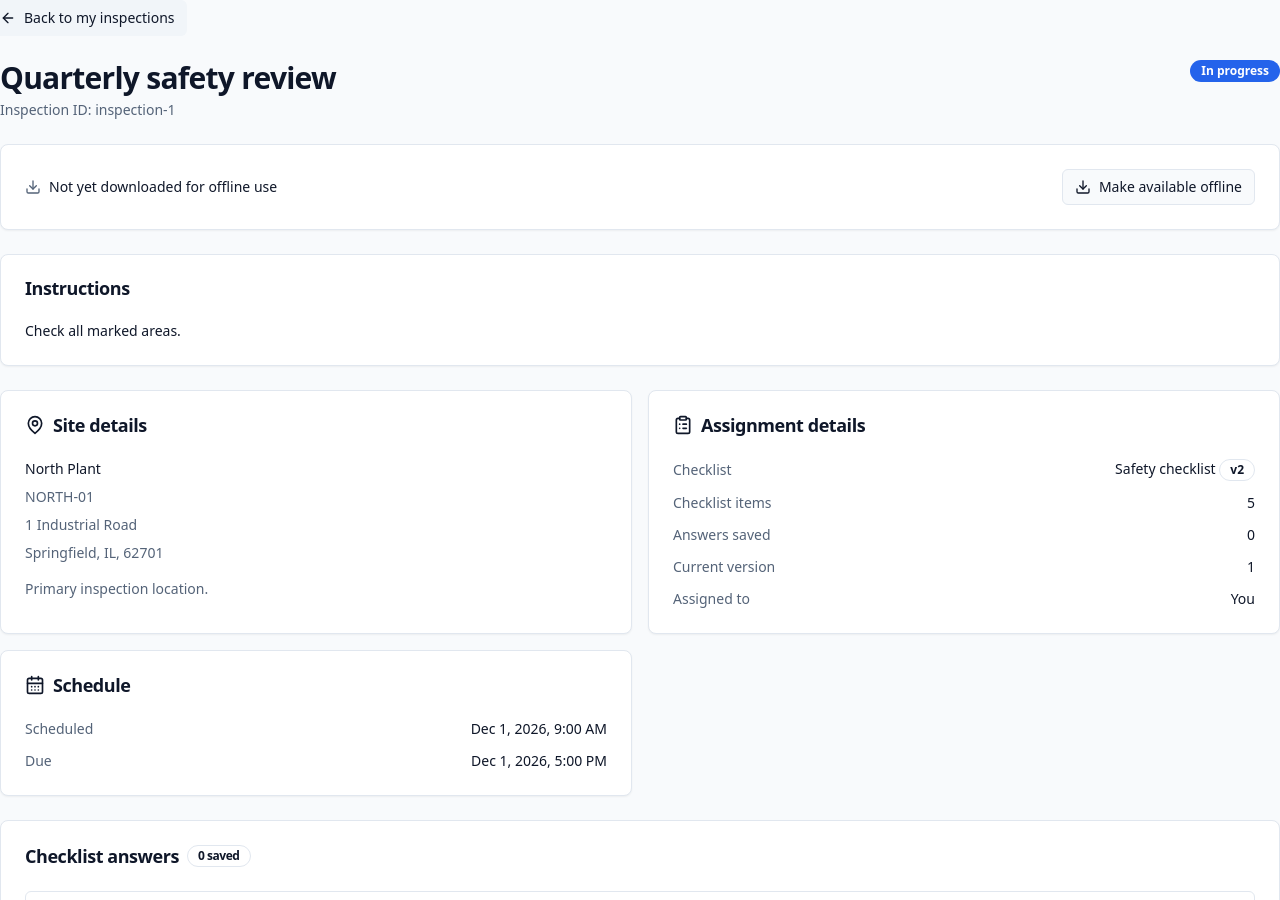
Test case: offline persistence in inspector workflows › keeps a downloaded inspection available when the API is unreachable
Later steps or results of the test are not shown.
Click the button "Make available offline" at {"x": 1158, "y": 187}, box [1062,169,1255,205]
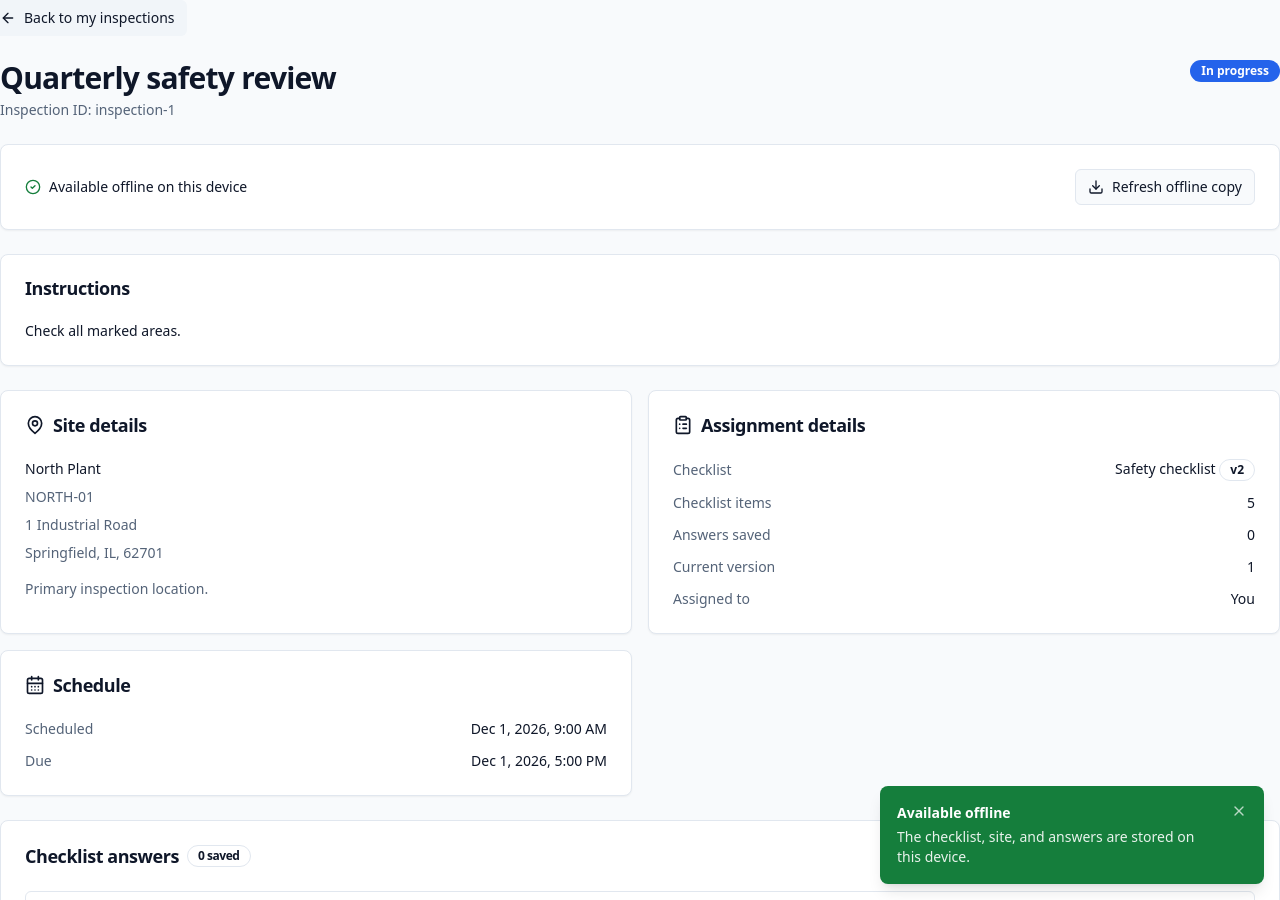
Now the text "Available offline on this device" is shown, box [49,177,247,197]
